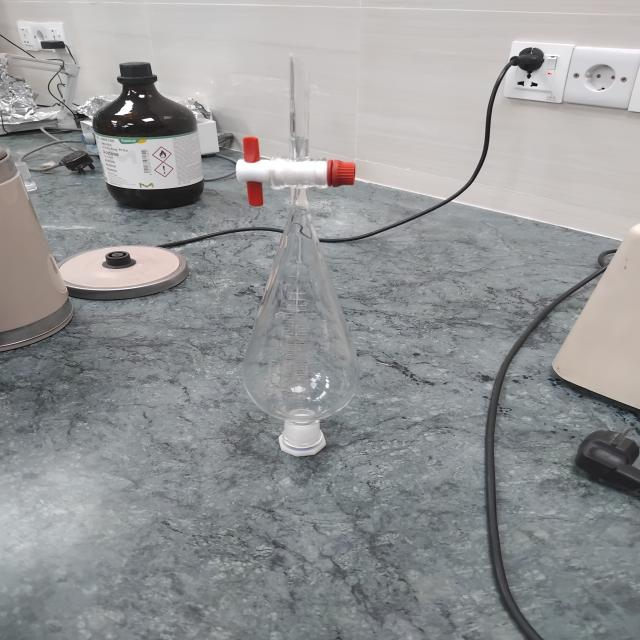Separating_Funnel: (192, 36, 410, 478)
